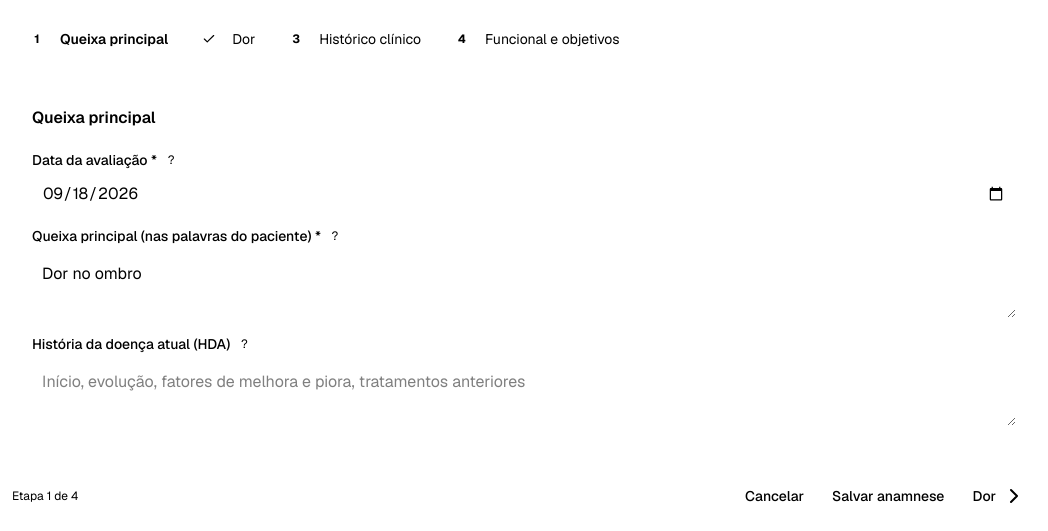
Test: AnamnesisForm em etapas › mostra só a primeira etapa e avança pelo rodapé
Expected: the text "Etapa 1 de 4" is shown, [12, 488, 78, 504]
Click the button named "Próxima etapa: Dor" at (999, 496), box [962, 478, 1036, 514]
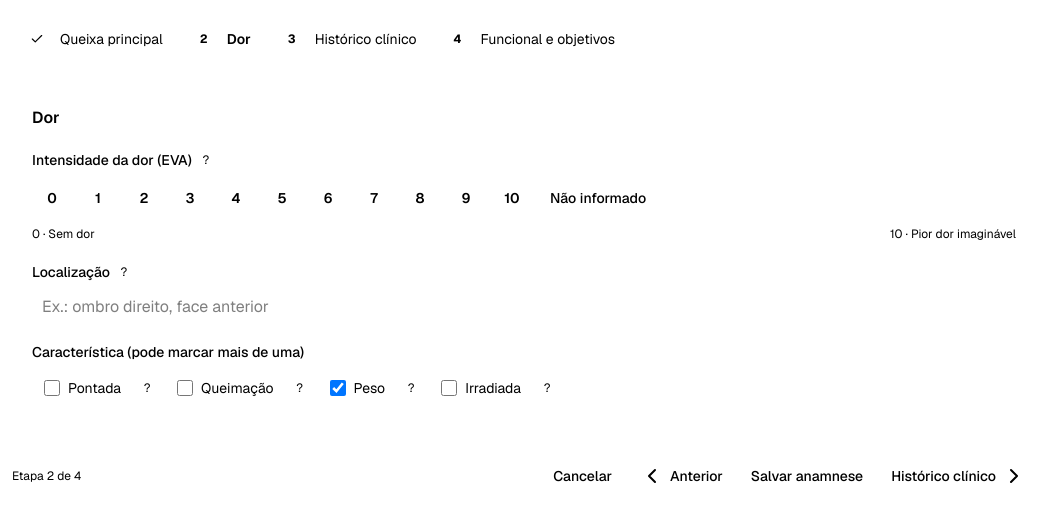
Expected: the button "2 Dor" is shown, [179, 16, 263, 62]
Result: the element "Dor" is shown
Result: the text "Etapa 2 de 4" is shown at [12, 468, 81, 484]
